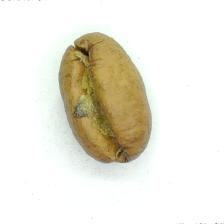NG: (70, 65, 114, 135)
